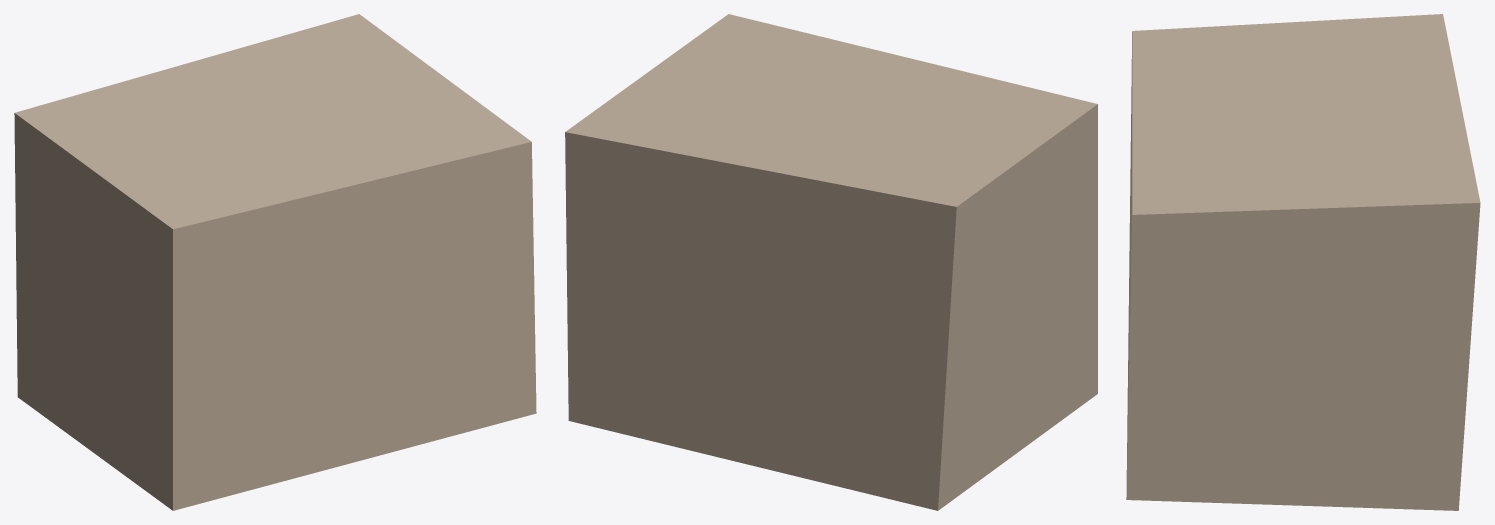
The model's file is cardboard_box.glb.
3 views of the same model, side by side, from view 1: azimuth 30°, elevation 25°; view 2: azimuth 150°, elevation 25°; view 3: azimuth 270°, elevation 25° (orthographic). The views are drawn at different scales.
Visible parts, largest first — view 1: cardboard_box; view 2: cardboard_box; view 3: cardboard_box.
Boxes of the visible parts, bbox=[...] form: cardboard_box: bbox=[14, 14, 536, 510]; cardboard_box: bbox=[565, 14, 1097, 510]; cardboard_box: bbox=[1126, 14, 1480, 510].
Size of the model in its own units: 0.2071 by 0.1558 by 0.1626.
